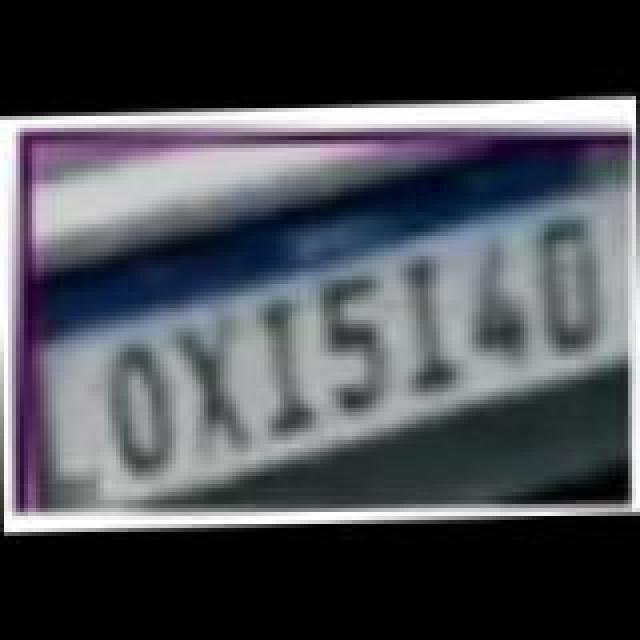4: (468, 240, 532, 364)
5: (320, 278, 392, 418)
D: (536, 218, 608, 354)
I: (256, 304, 320, 440), (402, 258, 462, 398)
O: (104, 346, 180, 482)
X: (176, 326, 252, 458)
